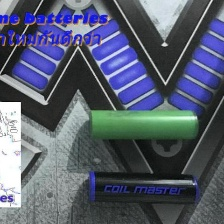battery: (85, 105, 202, 145), (84, 169, 201, 209)
